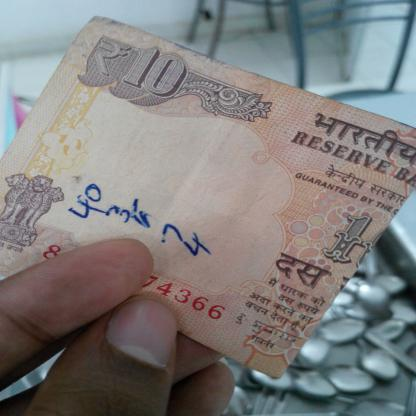Old10Front: (0, 13, 416, 381)
